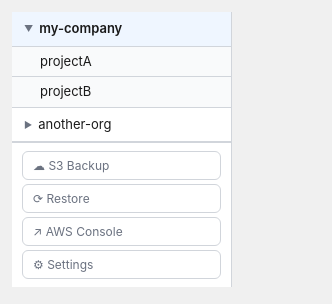
Test: Sidebar — context menus › shows Add project, Manage environments, and Delete namespace on right-click of namespace
The width and height of the screenshot is (332, 304).
Right-click the text "my-company".
right_click(81, 28)  # box [39,20,122,36]
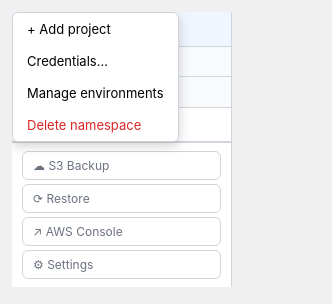
Expected: the button "+ Add project" is shown, [13,13,178,45]
Expected: the button "Credentials…" is shown, [13,45,178,77]
Expected: the button "Manage environments" is shown, [13,77,178,109]
